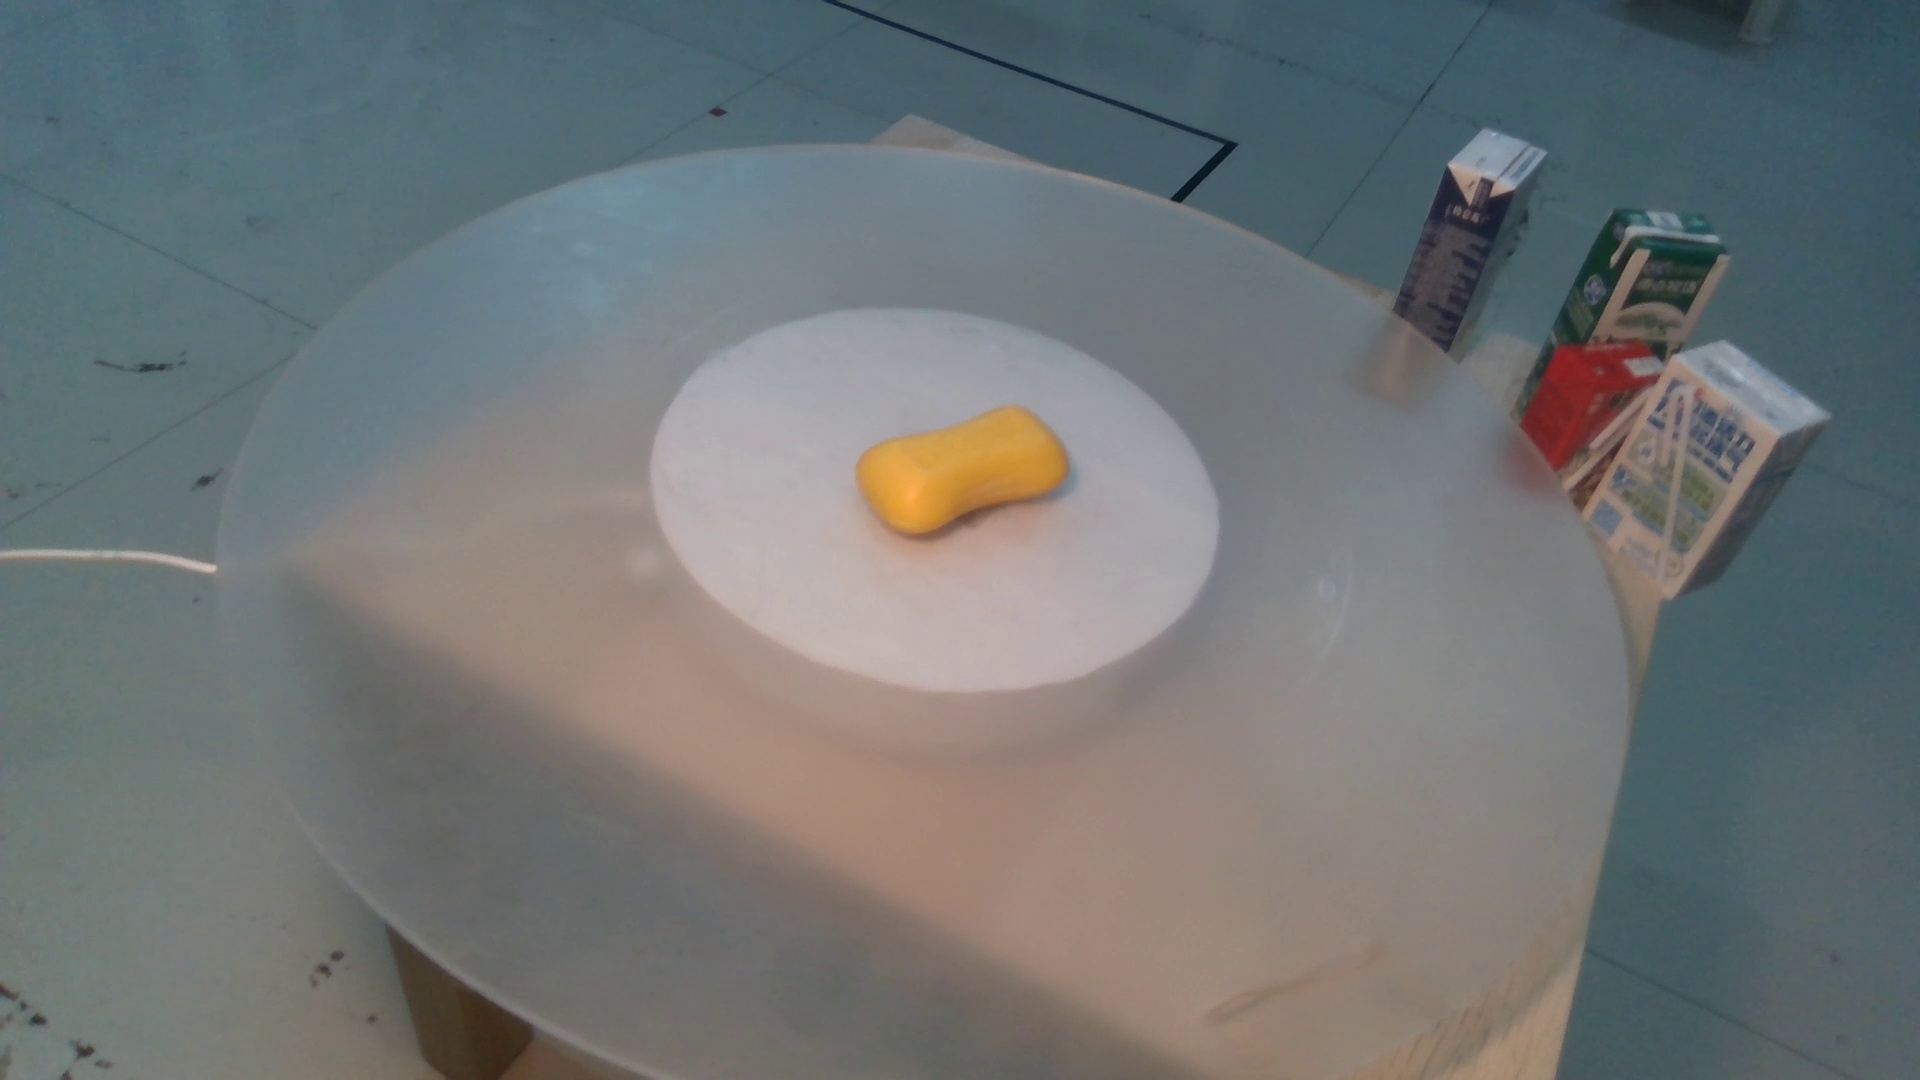CA003_1: (851, 380, 1101, 585)
